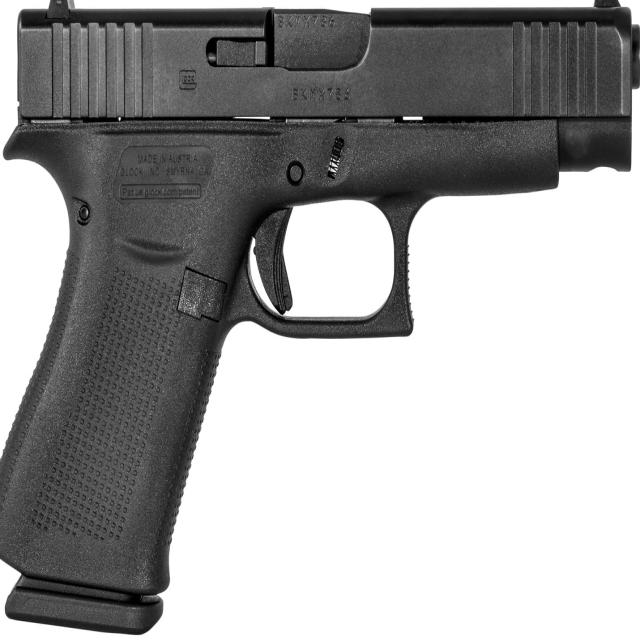Weapon: (0, 0, 640, 632)
